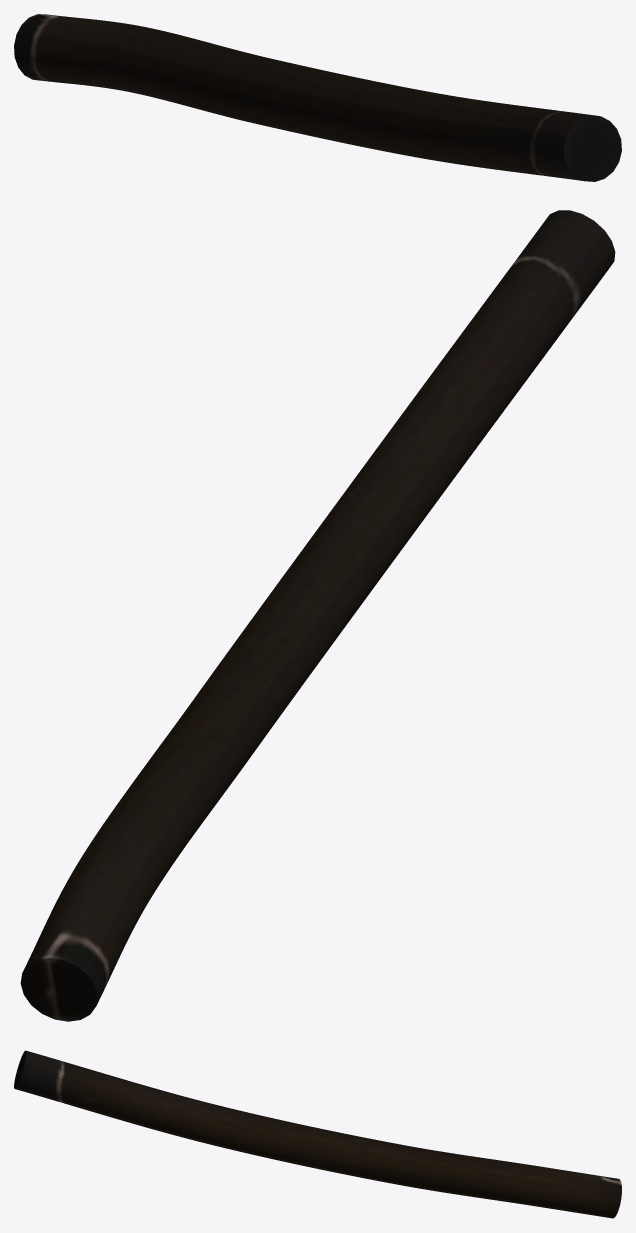
The model's file is pull_handle__handle_arm.glb.
3 renders of one model, top to bottom at view 1: azimuth 30°, elevation 25°; view 2: azimuth 150°, elevation 25°; view 3: azimuth 270°, elevation 25°, orthographic. The views are drawn at different scales.
Parts seen in each view (by area): view 1: geometry_0; view 2: geometry_0; view 3: geometry_0.
Part boxes in pixels (x1,y1,x2,y2): geometry_0: (14, 14, 621, 181); geometry_0: (20, 210, 615, 1021); geometry_0: (14, 1050, 621, 1218).
Bounding box in the file's own units: 0.0616 × 0.1485 × 0.4493.
Materials: 1 (1 with a texture image).
